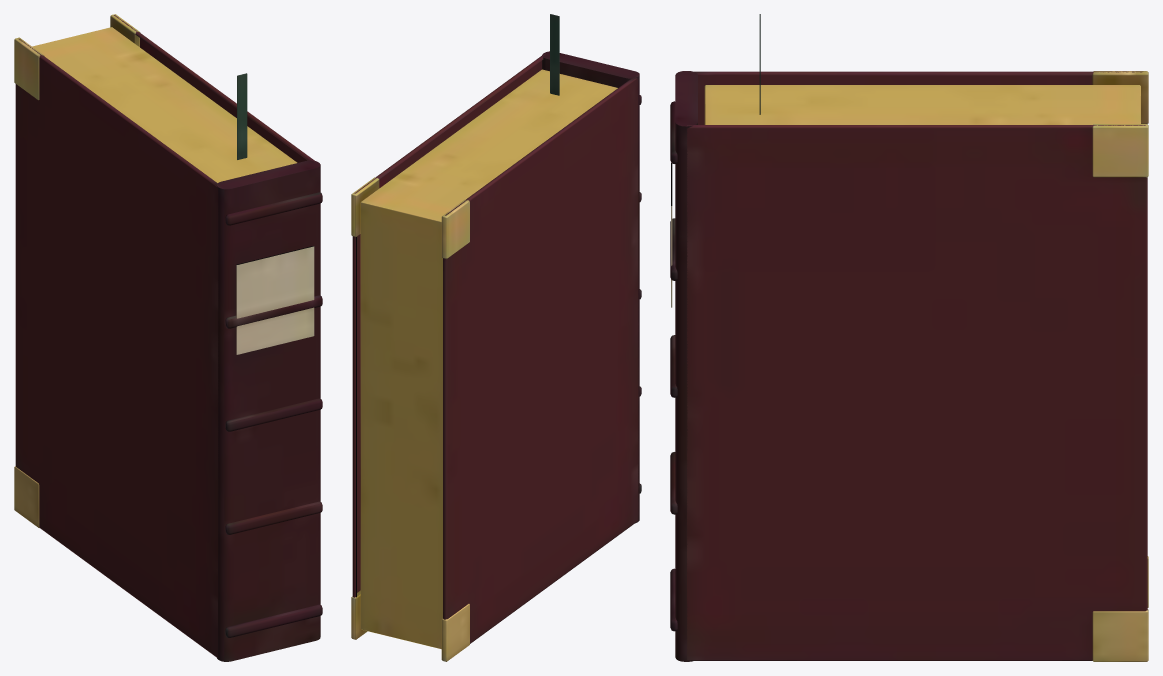
Rendered from ledger-c.glb.
3 views of the same model, side by side, from view 1: azimuth 30°, elevation 25°; view 2: azimuth 150°, elevation 25°; view 3: azimuth 270°, elevation 25° (orthographic). The views are drawn at different scales.
Visible parts, largest first — view 1: ledger; view 2: ledger; view 3: ledger.
Boxes of the visible parts, bbox=[...] form: ledger: bbox=[14, 14, 322, 661]; ledger: bbox=[351, 14, 641, 661]; ledger: bbox=[670, 14, 1148, 661].
Size of the model in its own units: 0.0712 by 0.364 by 0.2542.
1 material, 1 textured.
